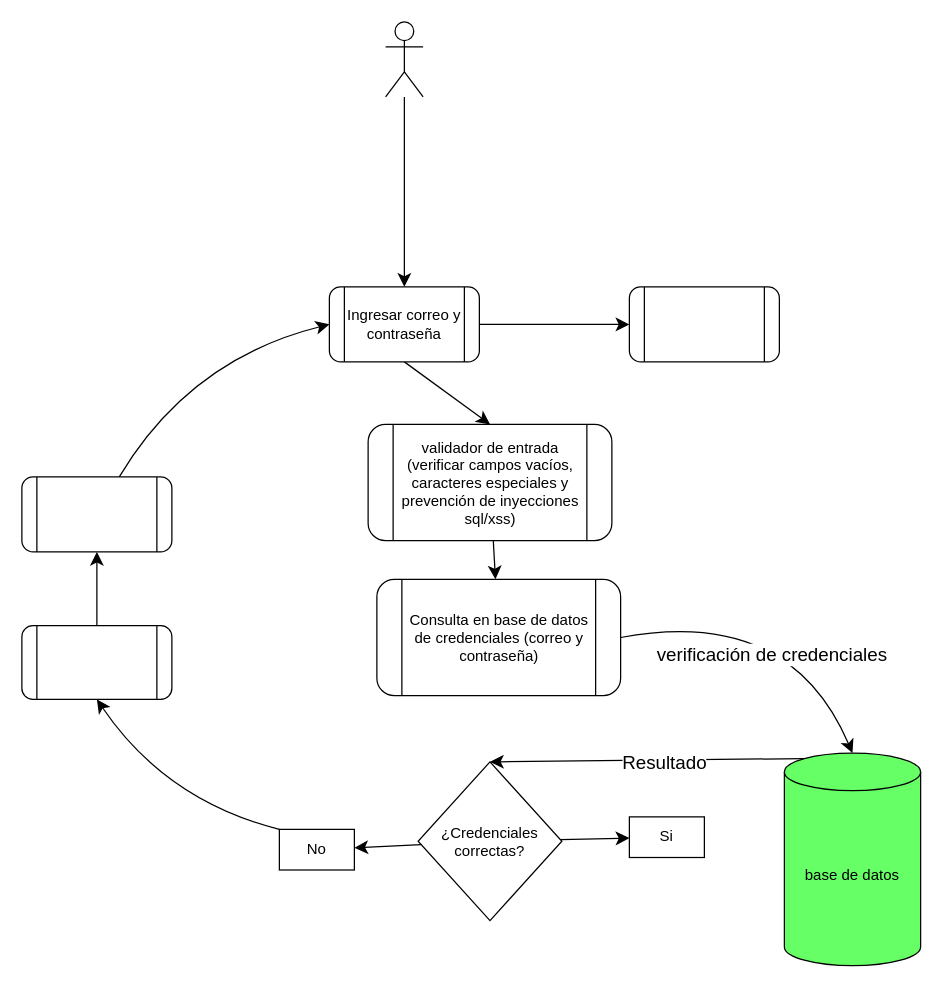
Some shapes in this 943 by 988 pixel diagram are drawn without their labels. The shapes that lost their labels are listed below. From the top down, each one's centre as x and y in pixels, then its label:
At [403,59]: "Actor".
At [703,324]: "olvide mis credenciales".
At [96,514]: "Mensaje (Te quedan X limite de intentos)".
At [96,661]: "Mensaje (credenciales incorrectas)".
